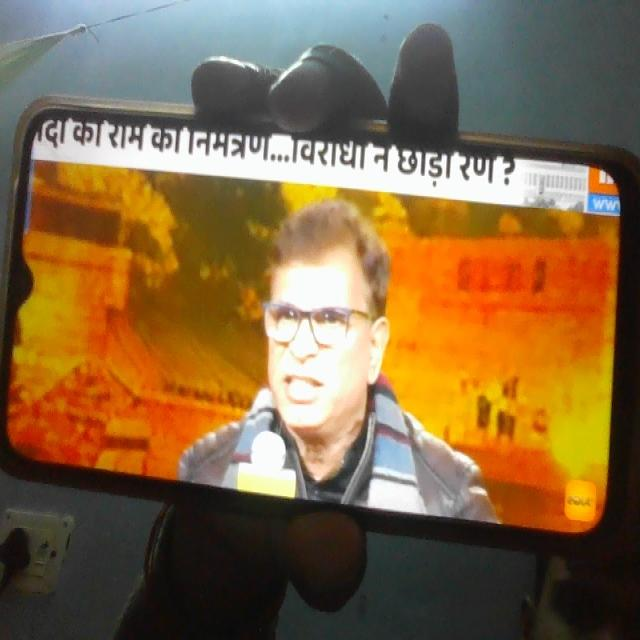fake: (240, 164, 403, 472)
